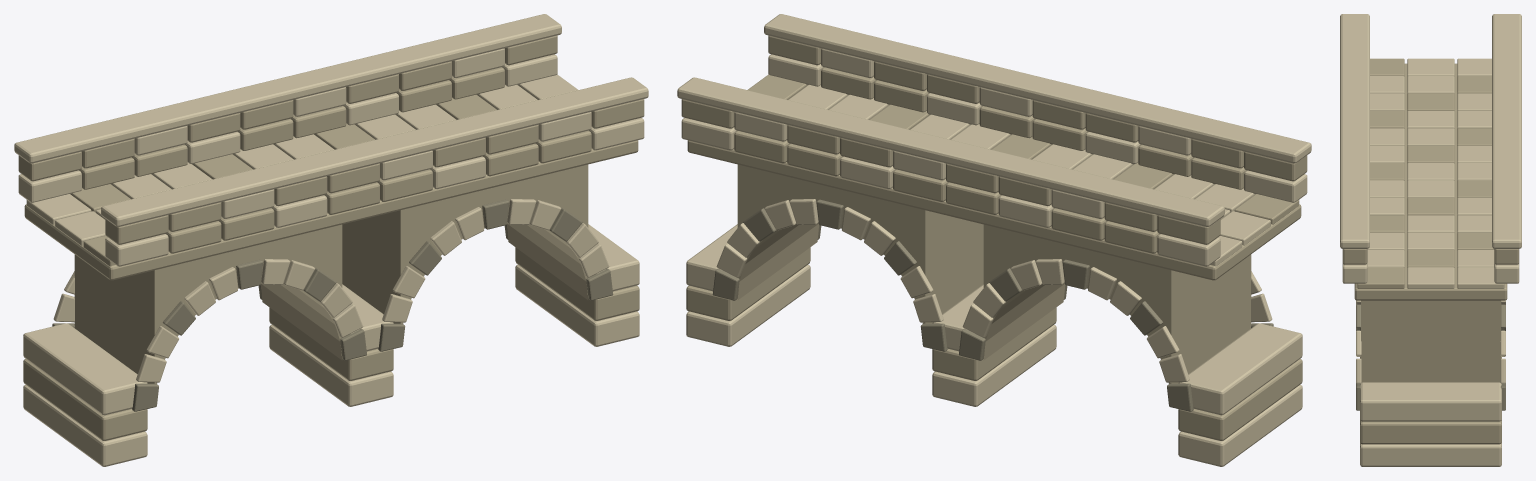
The model's file is 07_stone_bridge.glb.
The picture shows the model from 3 angles, left to right: view 1: azimuth 30°, elevation 25°; view 2: azimuth 150°, elevation 25°; view 3: azimuth 270°, elevation 25°; orthographic projection. The views are drawn at different scales.
Visible parts, largest first — view 1: Parapet cap.001, Parapet cap, Bridge road base, Arch spandrel.015, Bridge pier.002, Arch spandrel.031, Bridge pier.003, Bridge pier.006, Bridge pier, Bridge pier.001, Bridge pier.007, Bridge pier.004 (+84 smaller); view 2: Parapet cap, Parapet cap.001, Bridge road base, Arch spandrel.015, Bridge pier.002, Arch spandrel.031, Bridge pier.003, Bridge pier.006, Bridge pier, Bridge pier.001, Bridge pier.007, Bridge pier.004 (+84 smaller); view 3: Arch spandrel.016, Parapet cap, Parapet cap.001, Bridge pier.008, Bridge road base, Bridge pier.007, Bridge pier.006, Road cobble.037, Road cobble.025, Road cobble.036, Road cobble.038, Road cobble.001 (+38 smaller).
Boxes of the visible parts, x1,y1,x2,y2 form: Parapet cap.001: [14, 14, 561, 163]; Parapet cap: [101, 77, 648, 226]; Bridge road base: [24, 140, 638, 280]; Arch spandrel.015: [74, 254, 156, 383]; Bridge pier.002: [23, 323, 147, 415]; Arch spandrel.031: [342, 210, 402, 323]; Bridge pier.003: [269, 325, 393, 406]; Bridge pier.006: [515, 264, 639, 346]; Bridge pier: [23, 385, 147, 466]; Bridge pier.001: [23, 359, 147, 440]; Bridge pier.007: [515, 247, 639, 320]; Bridge pier.004: [269, 307, 393, 380]; Parapet cap: [764, 14, 1311, 163]; Parapet cap.001: [677, 77, 1224, 226]; Bridge road base: [687, 140, 1301, 280]; Arch spandrel.015: [1169, 254, 1251, 383]; Bridge pier.002: [1178, 323, 1302, 415]; Arch spandrel.031: [923, 210, 983, 323]; Bridge pier.003: [932, 325, 1056, 406]; Bridge pier.006: [686, 264, 810, 346]; Bridge pier: [1178, 385, 1302, 466]; Bridge pier.001: [1178, 359, 1302, 440]; Bridge pier.007: [686, 247, 810, 320]; Bridge pier.004: [932, 307, 1056, 380]; Arch spandrel.016: [1361, 300, 1500, 382]; Parapet cap: [1340, 14, 1369, 248]; Parapet cap.001: [1492, 14, 1521, 248]; Bridge pier.008: [1360, 382, 1501, 421]; Bridge road base: [1354, 63, 1507, 300]; Bridge pier.007: [1360, 420, 1501, 444]; Bridge pier.006: [1360, 442, 1501, 466]; Road cobble.037: [1407, 267, 1454, 288]; Road cobble.025: [1407, 197, 1454, 215]; Road cobble.036: [1357, 267, 1404, 288]; Road cobble.038: [1457, 267, 1504, 288]; Road cobble.001: [1407, 58, 1454, 76].
Size of the model in its own units: 5.44 by 2.49 by 1.82.
